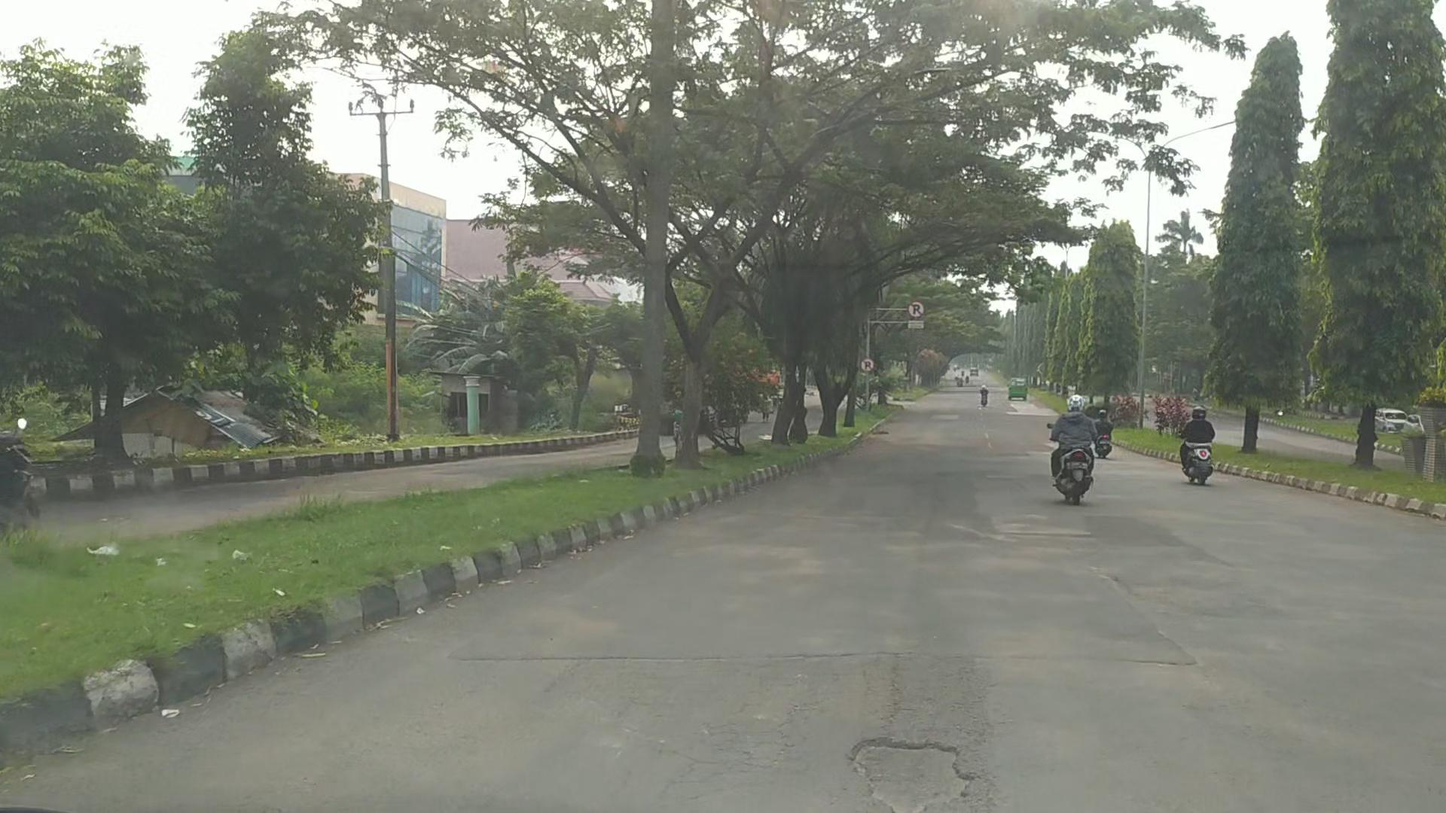pothole: (839, 733, 961, 803)
